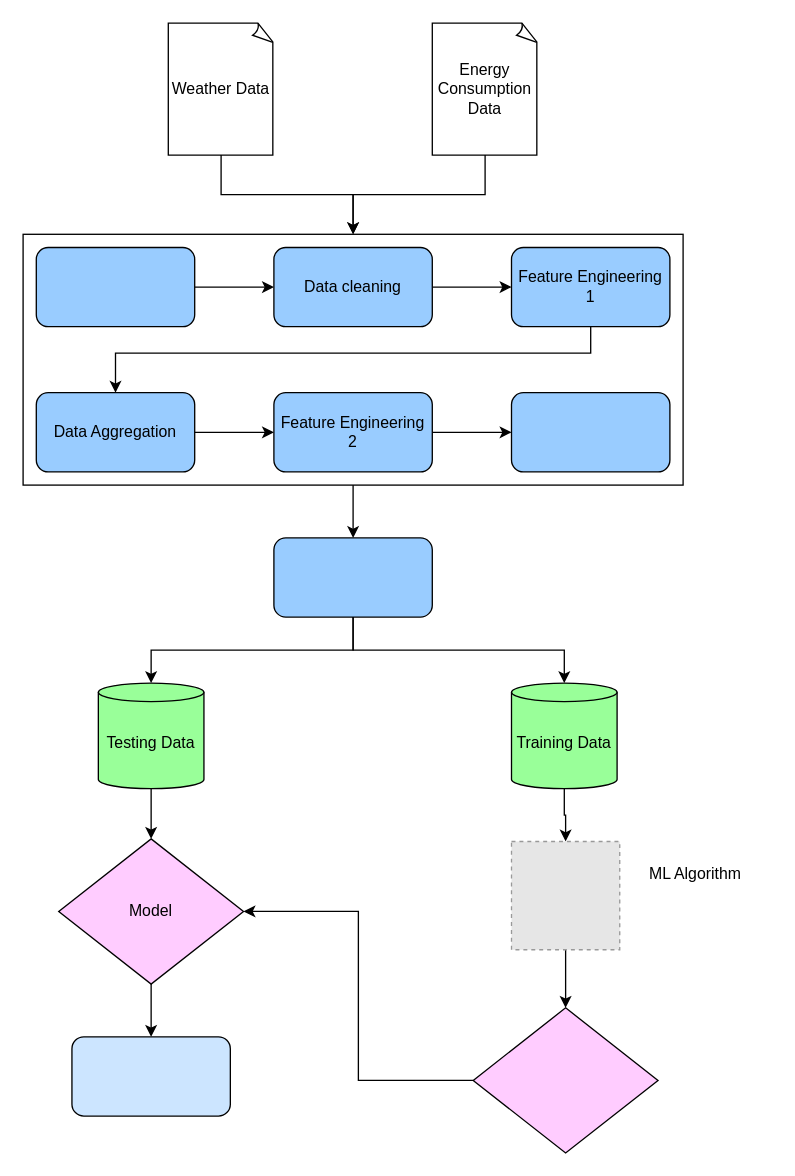
Some shapes in this 795 by 1176 pixel diagram are drawn without their labels. Grey dashed boxes stand in for pictures. The shapes that lost their labels are listed below. From the top down, each one's centre as x and y in pixels, then its label:
At (115,286): "Data Compilation".
At (590,431): "Feature Selection".
At (352,577): "Train-test Splitting".
At (150,1076): "Predictions".
At (565,1079): "Predictive Model".
